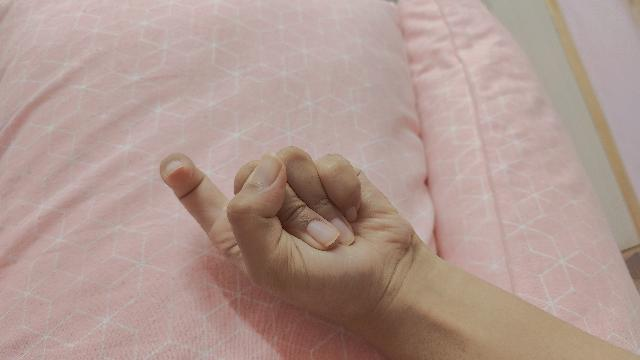tamrachud: (158, 147, 640, 360)
